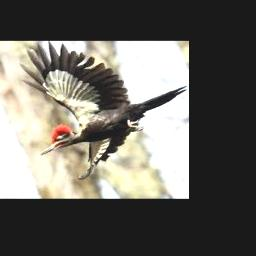Woodpecker: (20, 41, 187, 179)
